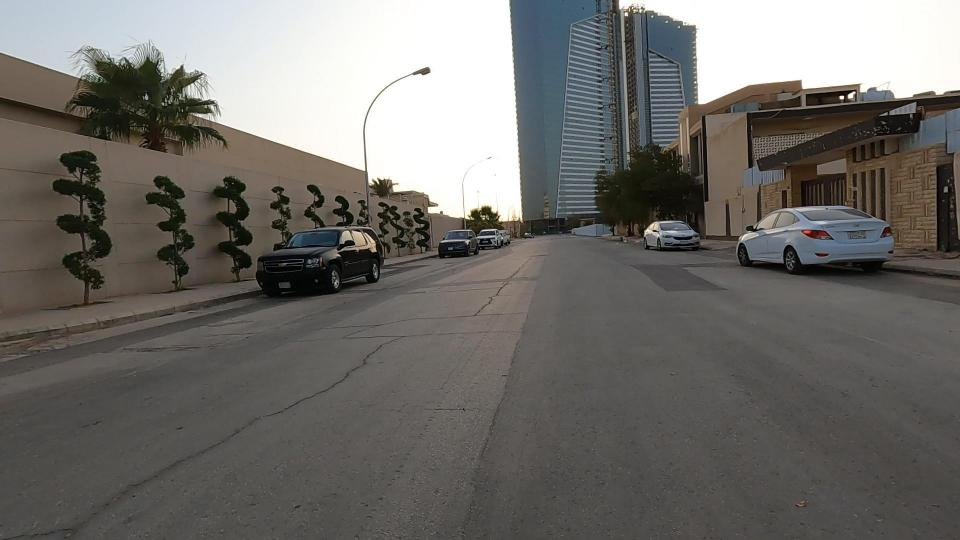POTHOLES: (176, 360, 370, 466), (87, 405, 273, 512), (304, 308, 425, 410), (456, 244, 544, 356), (96, 325, 222, 382)
